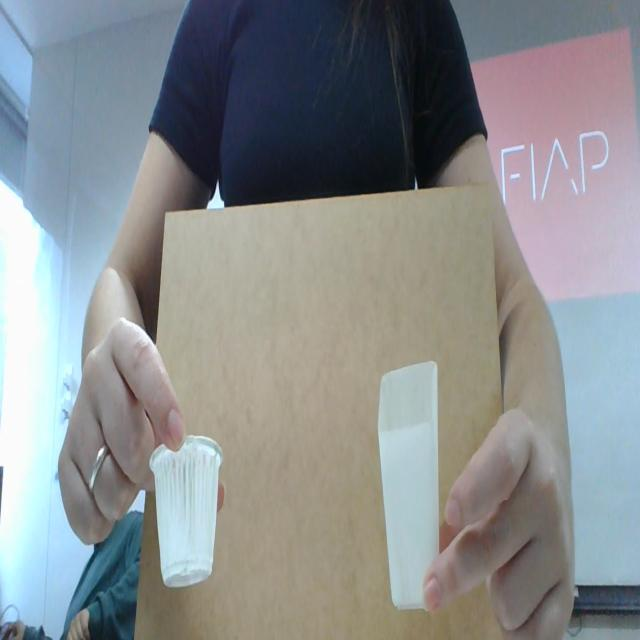erva_daninha: (377, 360, 440, 612)
planta: (149, 435, 223, 589)
